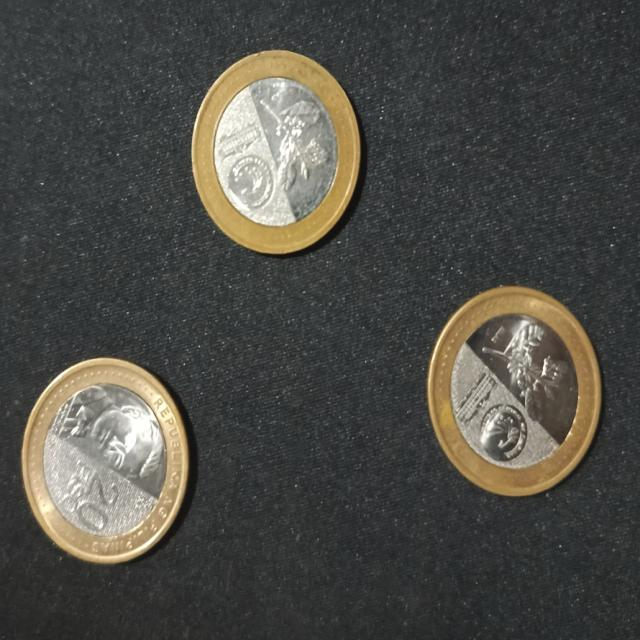20_peso: (428, 286, 601, 494), (192, 51, 360, 252), (22, 360, 186, 561)
